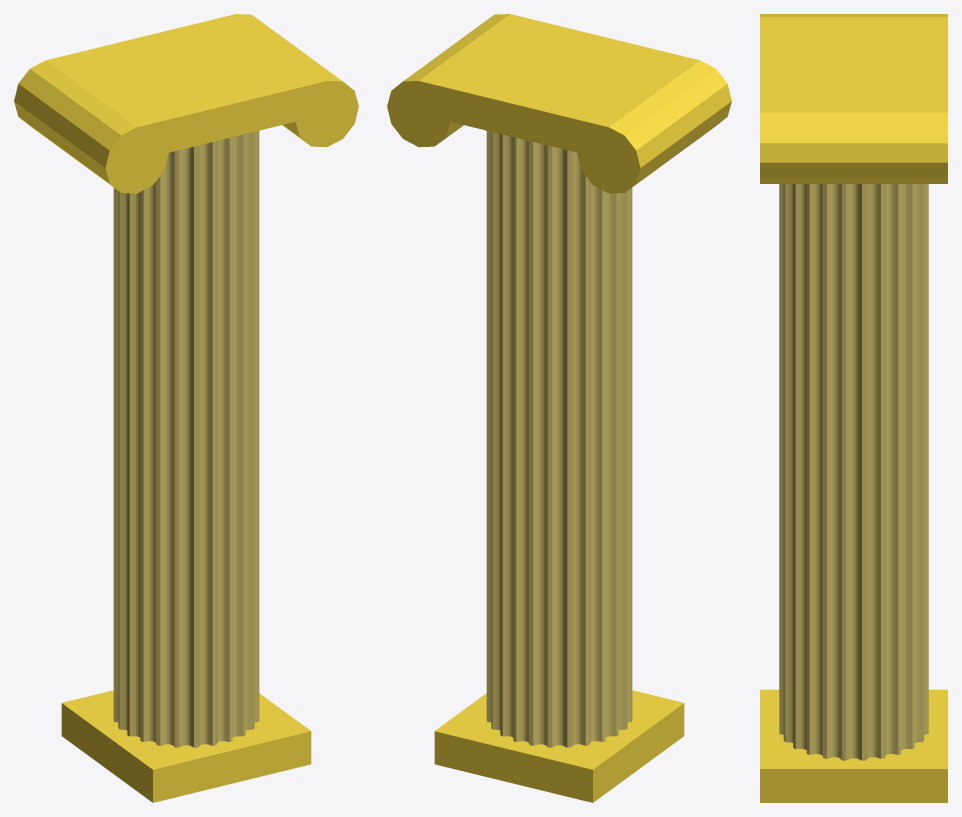
Rendered from openscad_customizable-column.glb.
3 views of the same model, side by side, from view 1: azimuth 30°, elevation 25°; view 2: azimuth 150°, elevation 25°; view 3: azimuth 270°, elevation 25° (orthographic). The views are drawn at different scales.
Parts seen in each view (by area): view 1: object; view 2: object; view 3: object.
Boxes of the visible parts, x1,y1,x2,y2 form: object: (14,14,358,802); object: (387,14,731,802); object: (760,14,947,802).
Size of the model in its own units: 8 by 20.5 by 5.
